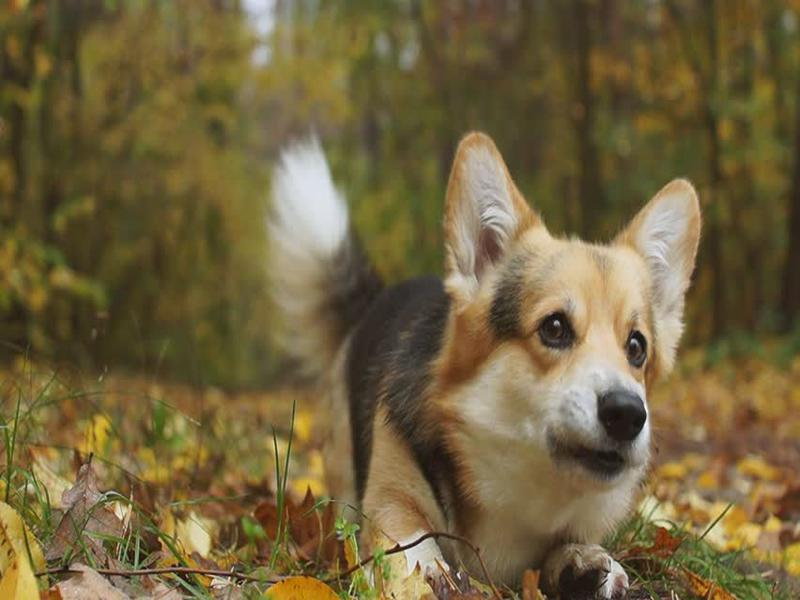corgi: (439, 130, 705, 486)
